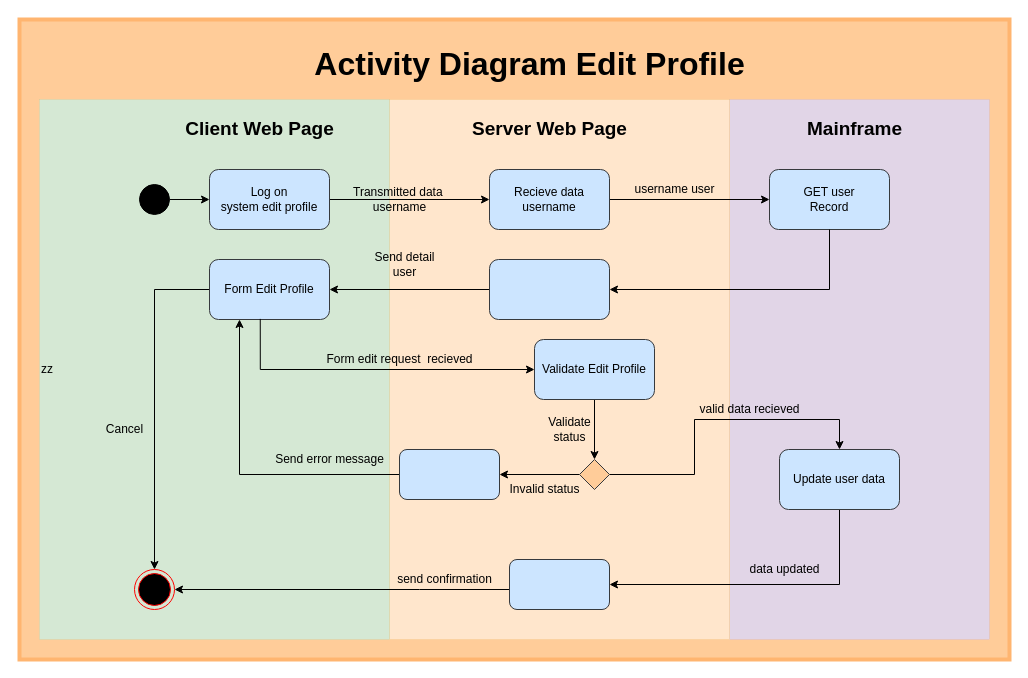
This 1028x678 diagram has some shape labels left out. Each missing label, with the centre of its shape:
Display Confirmation: (559,584)
Display error message: (449,474)
Display User detail: (549,289)
